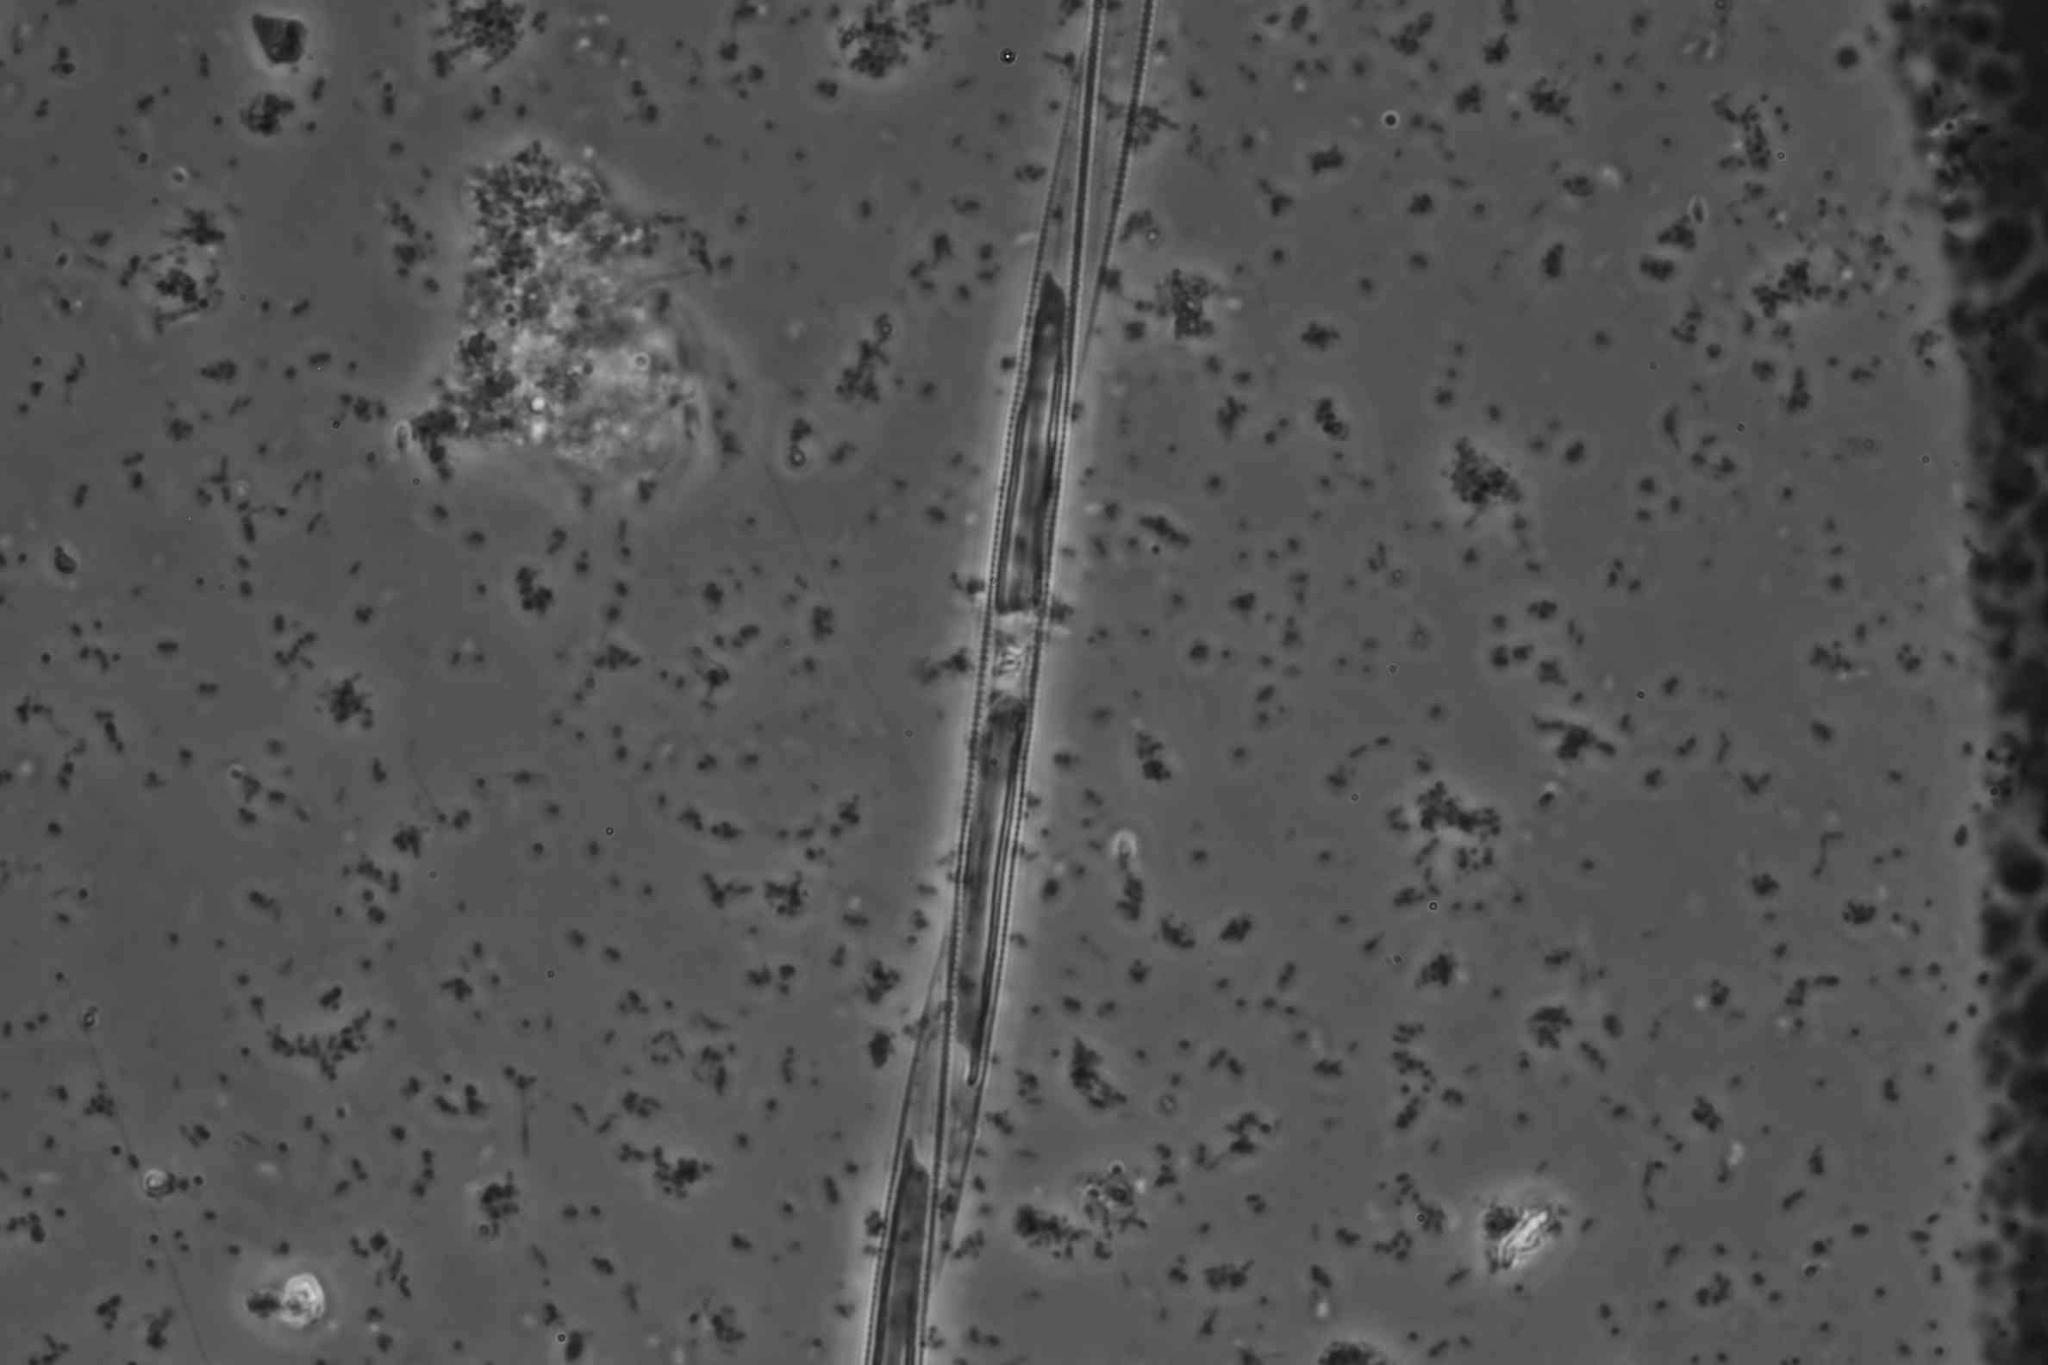pseudo_nitzschia: (860, 2, 1156, 1365)
